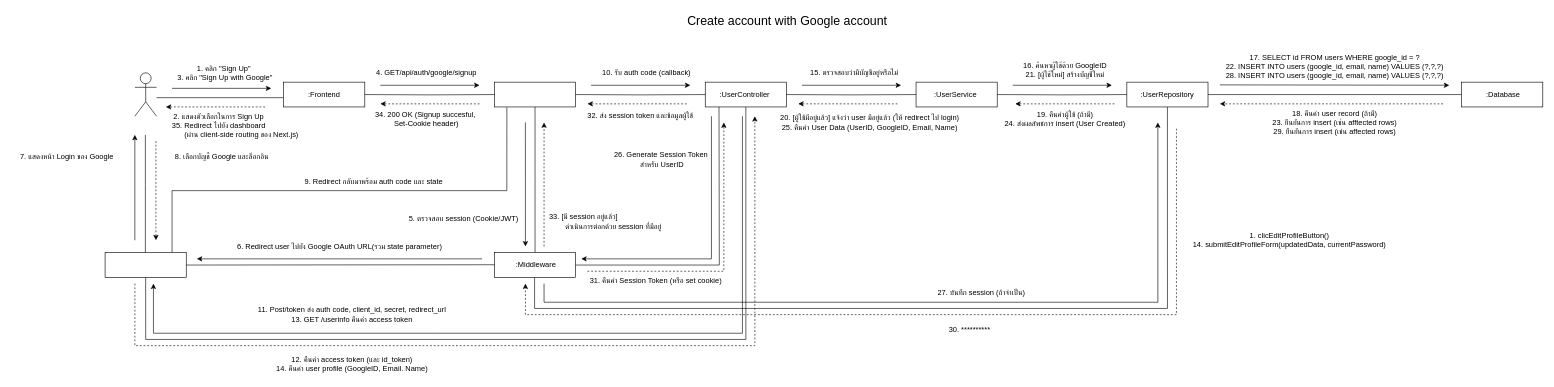
Image size: 1554x387. Some labels were removed from this diagram. Each missing label, with the box of its shape:
:GoogleOAuthClient: (104, 252, 186, 277)
:Router: (494, 82, 576, 107)
User: (134, 72, 157, 116)
